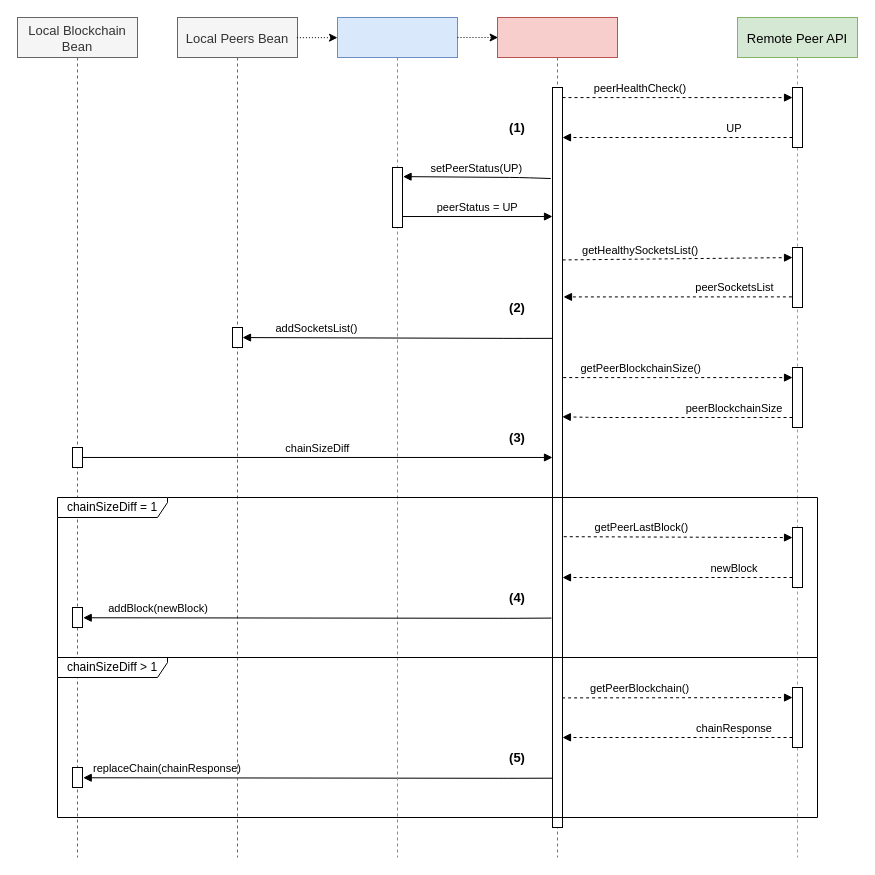
The diagram is 875 pixels wide and 875 high, and some of its shapes have lost their labels. The shapes that lost their labels are listed below. From the top down, each one's box as (x1, y1, x2, y2) in pixels, then its label:
(336, 16, 458, 858): Local Peer Object
(496, 16, 618, 858): PeerPollingService
